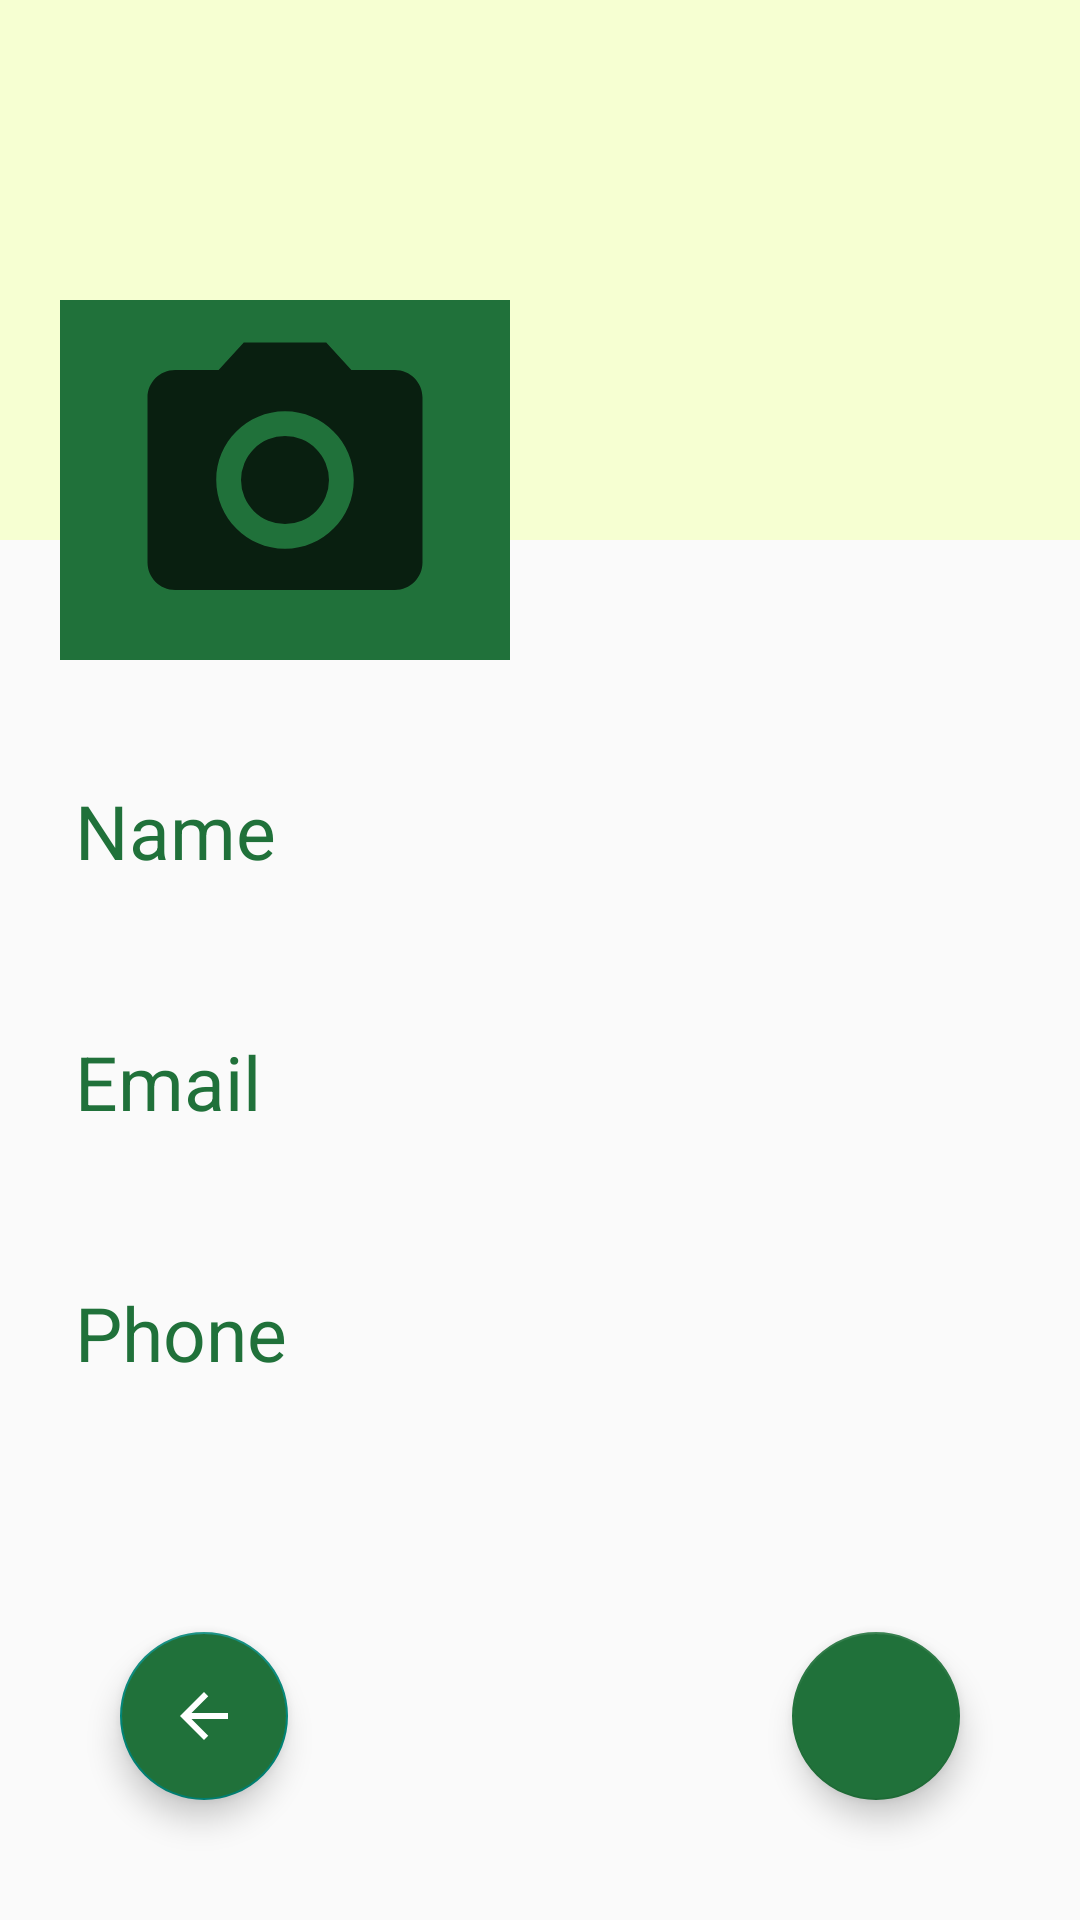

Locate icon controls on the screen. Image size 1080×1920, boxes as [x1=x1, y1=y1, x2=x2, y2=y2].
arrow back: [x1=120, y1=1632, x2=288, y2=1800]
